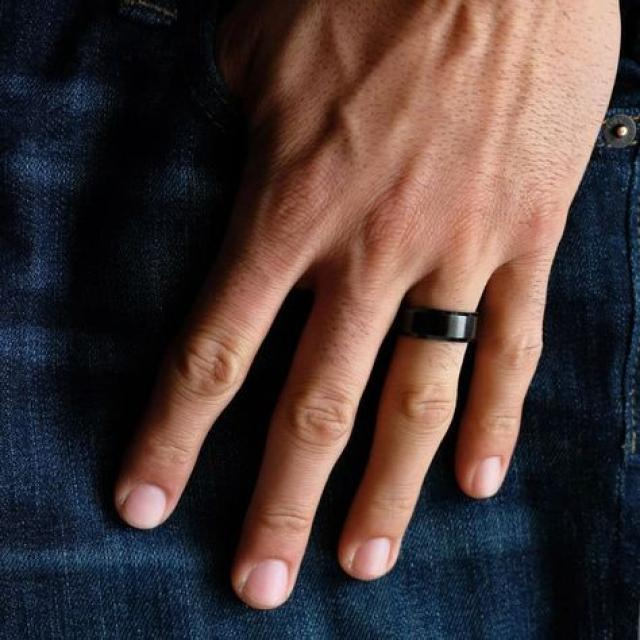Fingernail: (244, 559, 288, 607), (124, 484, 165, 528), (354, 538, 390, 578), (474, 457, 503, 496)
